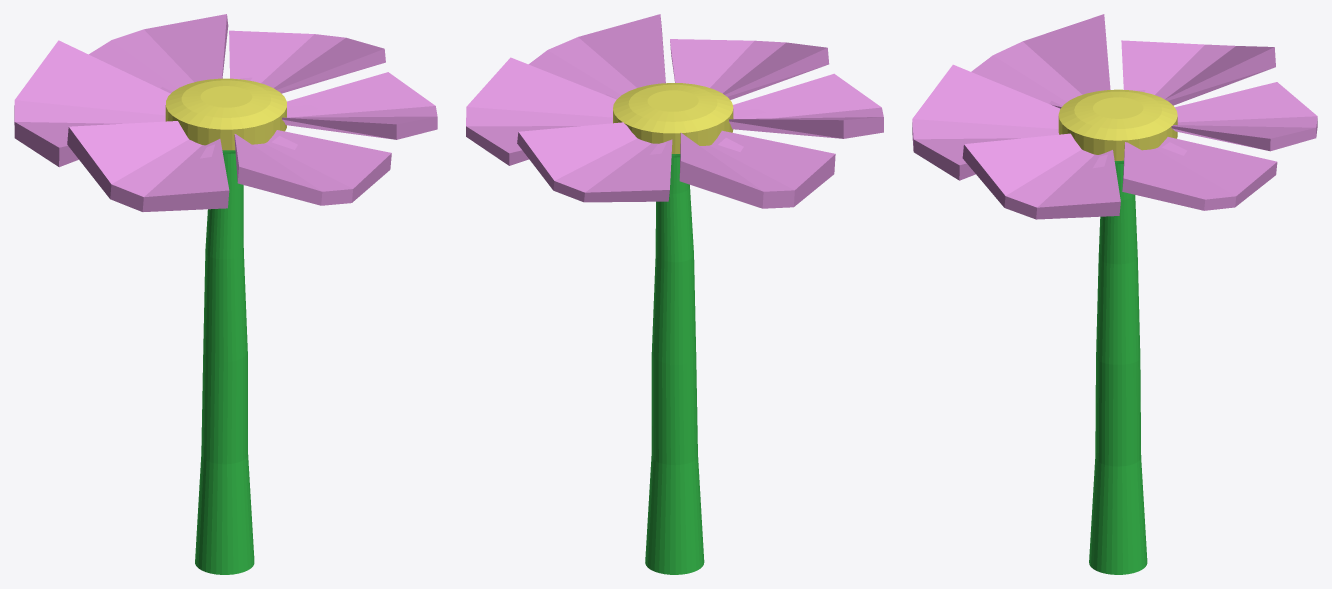
The model's file is Flower-2.1.fbx.
3 renders of one model, left to right at view 1: azimuth 30°, elevation 25°; view 2: azimuth 150°, elevation 25°; view 3: azimuth 270°, elevation 25°, orthographic. The views are drawn at different scales.
Visible parts, largest first — view 1: Cylinder.005, Cylinder.006; view 2: Cylinder.005, Cylinder.006; view 3: Cylinder.005, Cylinder.006.
Boxes of the visible parts, x1,y1,x2,y2 form: Cylinder.005: [14, 14, 437, 211]; Cylinder.006: [165, 78, 286, 574]; Cylinder.005: [466, 14, 883, 208]; Cylinder.006: [613, 83, 733, 574]; Cylinder.005: [912, 14, 1317, 219]; Cylinder.006: [1058, 89, 1177, 574].
Size of the model in its own units: 2.34 by 2.19 by 3.02.
